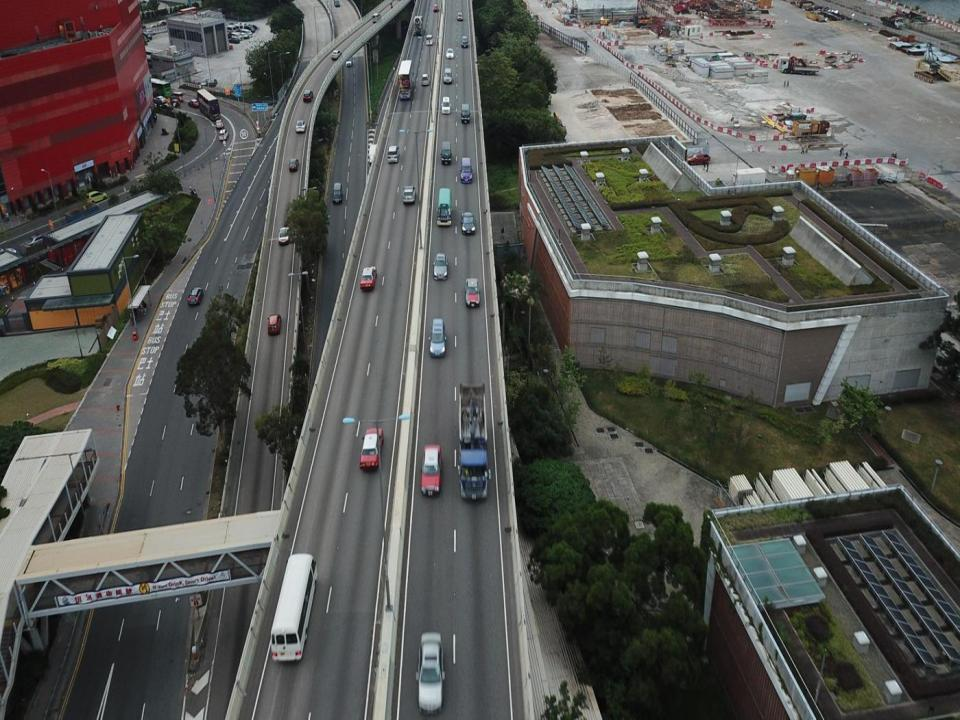bus: (269, 553, 318, 662), (197, 89, 221, 118), (436, 187, 452, 226), (399, 60, 412, 100), (412, 15, 422, 36)
car: (411, 629, 450, 708), (421, 444, 442, 495), (360, 426, 383, 469), (430, 317, 446, 358), (464, 277, 481, 307), (434, 251, 449, 280), (360, 265, 376, 291), (24, 233, 48, 250), (460, 212, 476, 237), (186, 287, 204, 306), (266, 314, 281, 336), (686, 152, 710, 165), (87, 189, 107, 204), (331, 182, 344, 204), (277, 226, 291, 246), (403, 184, 416, 204), (387, 144, 400, 164), (440, 96, 453, 115), (287, 158, 299, 174), (344, 50, 353, 70), (294, 120, 306, 133), (370, 12, 382, 24), (187, 98, 200, 109), (301, 90, 312, 102), (218, 128, 228, 140), (459, 36, 469, 48), (332, 48, 341, 60), (445, 48, 455, 58), (456, 11, 464, 22), (331, 1, 342, 8), (214, 119, 223, 127), (432, 4, 440, 10)
truck: (457, 383, 488, 501), (779, 54, 820, 77)
van: (460, 156, 473, 183), (440, 140, 452, 165), (459, 103, 472, 124), (443, 66, 452, 84), (424, 34, 434, 46), (420, 73, 428, 87)
